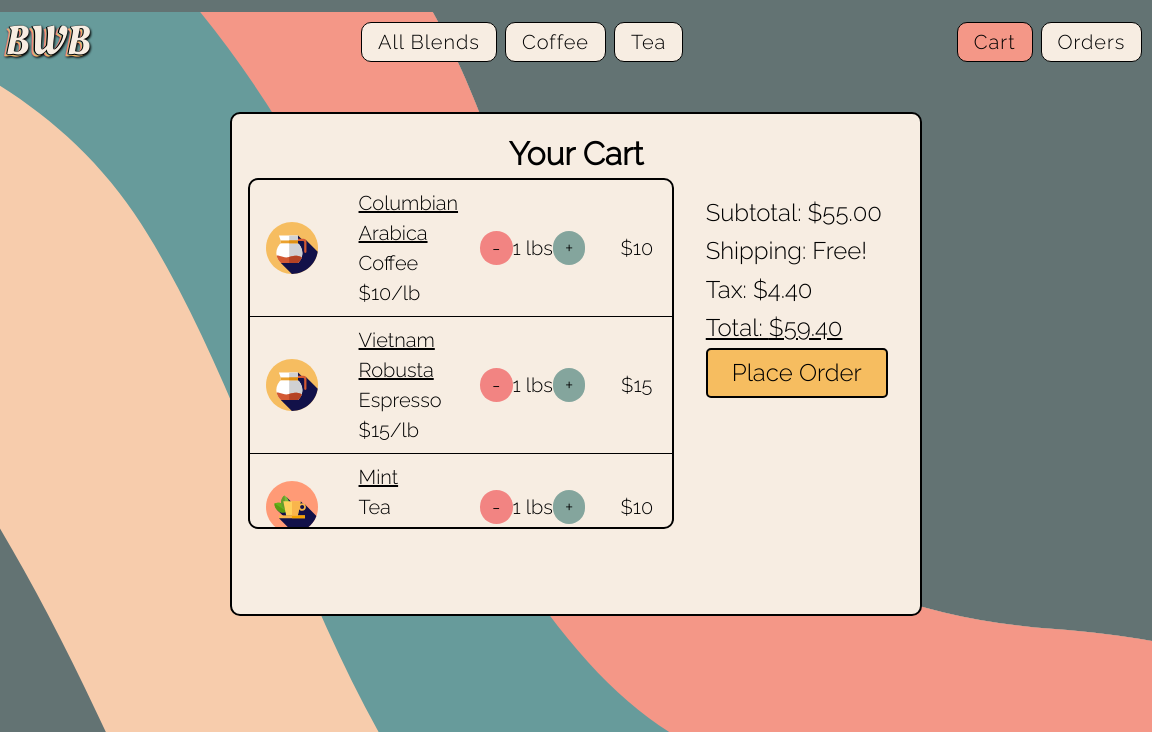
it: Cart › should charge $5 for shipping on orders less than $20
The image size is (1152, 732).
Click the button "-" below "Columbian Arabica": (497, 248) x1=480 y1=231 x2=513 y2=264
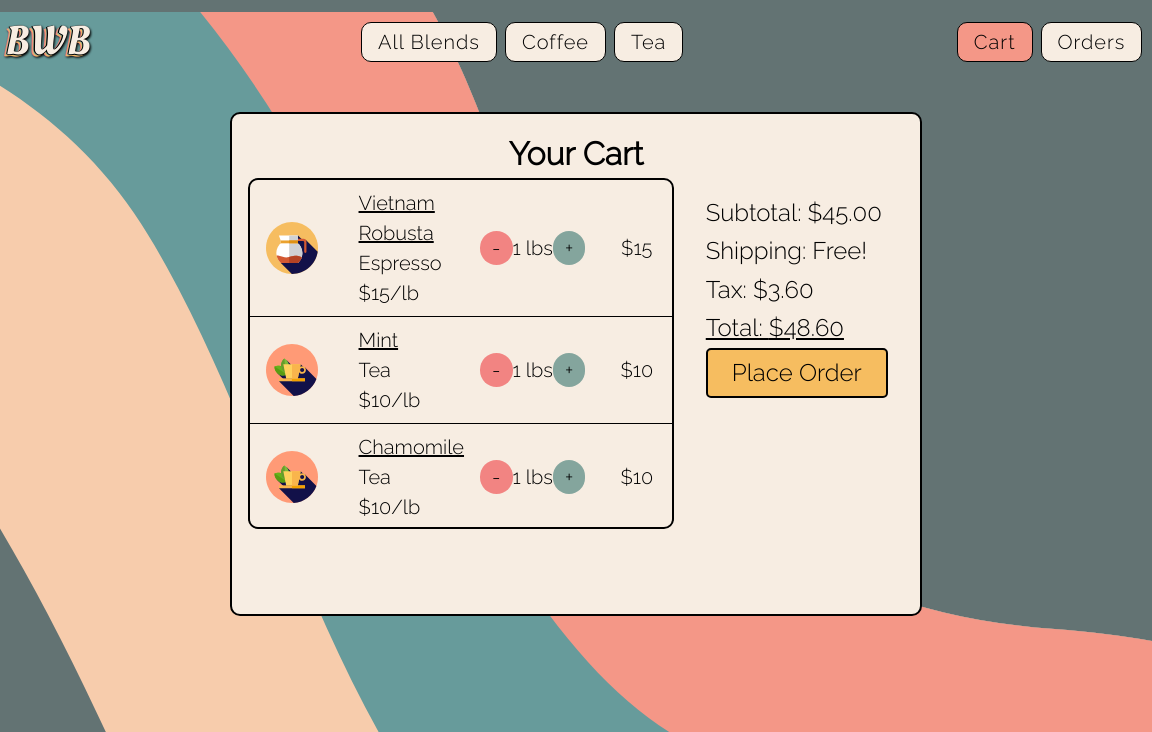
Click the button "-" next to "Espresso": (497, 248) x1=480 y1=231 x2=513 y2=264
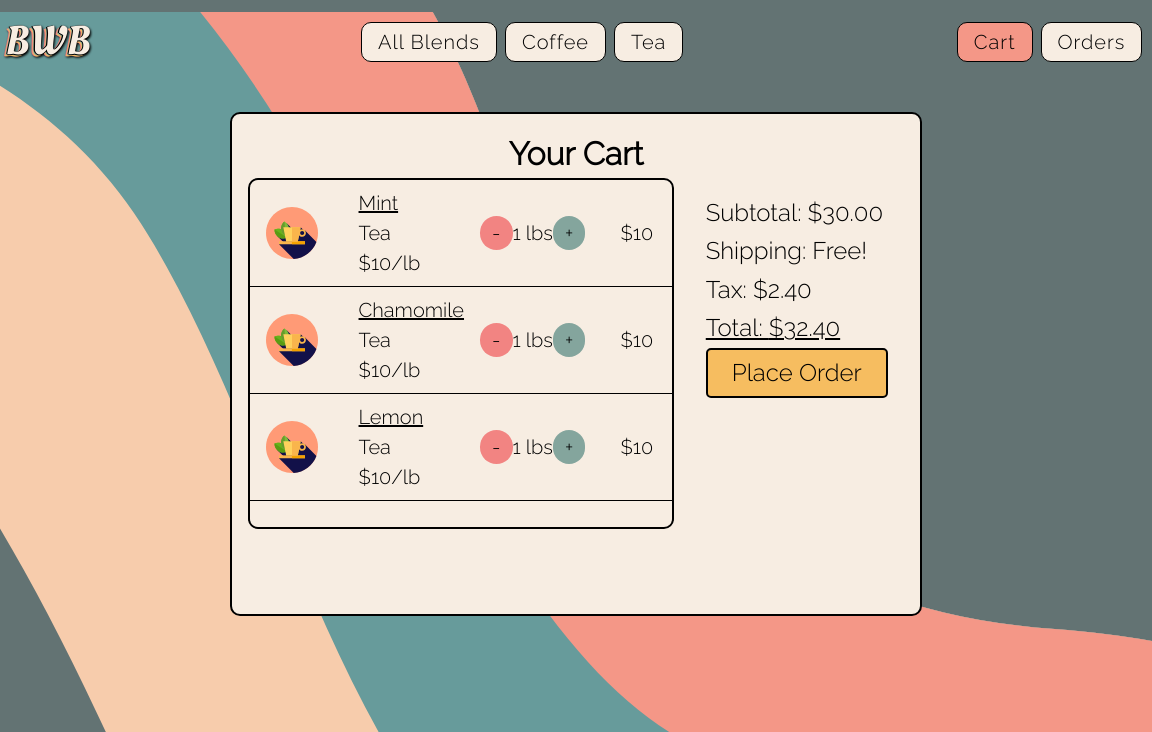
Click the button "-" below "Mint": (497, 233) x1=480 y1=216 x2=513 y2=249
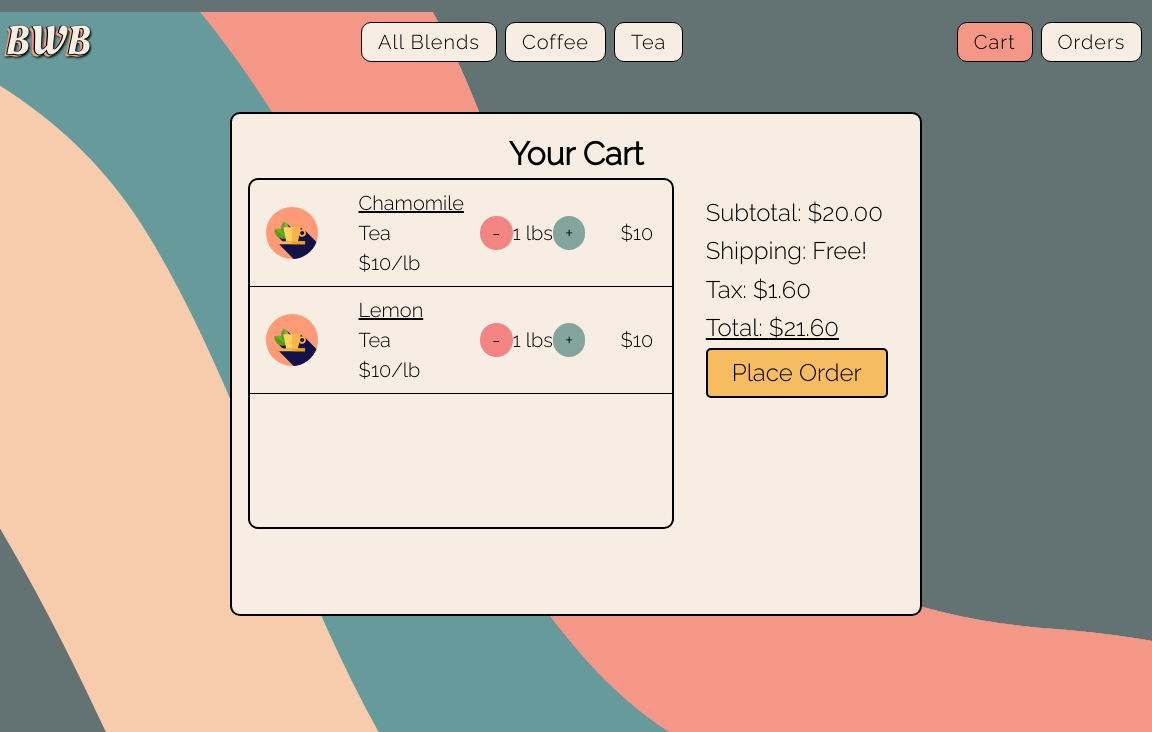
Click the button "-" below "Chamomile": (497, 233) x1=480 y1=216 x2=513 y2=249
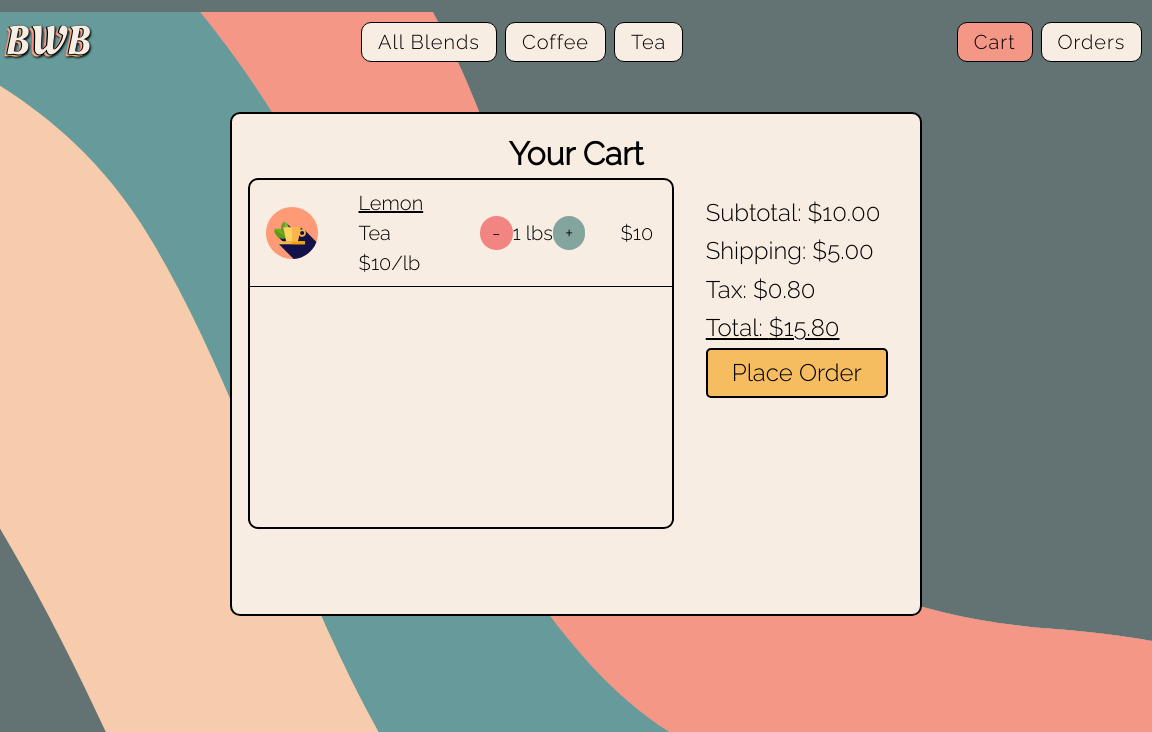
Expected: the text "$5.00" is shown, x1=812 y1=236 x2=873 y2=265
